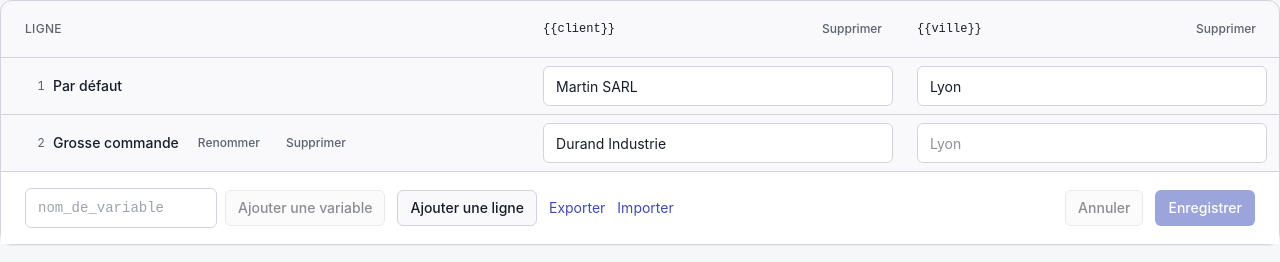
Test case: Données de test — le tableau › falsifiable : « Enregistrer » n’envoie que les cases modifiées, jeu par jeu
Type " Lille " into the field with placeholder "Lyon" at (1092,143), box [917,123,1267,163]
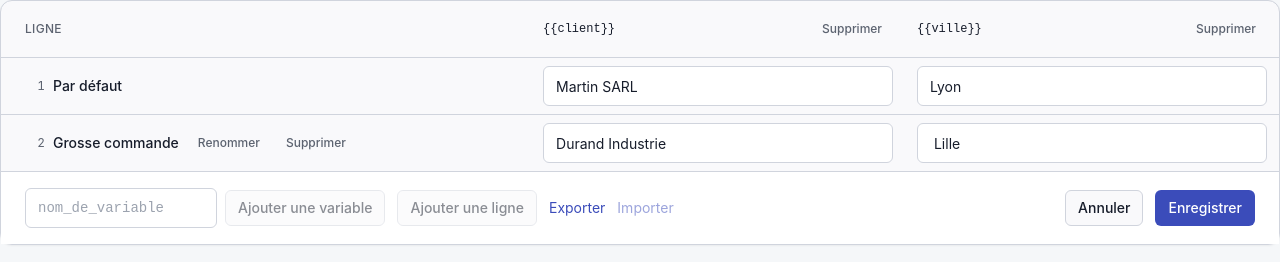
Clear the field named "client pour Grosse commande" at (718,143), box [543,123,893,163]
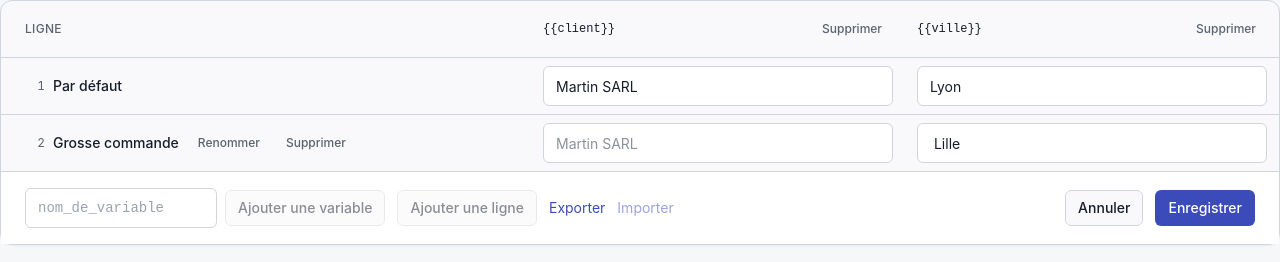
Click the button with test id "donnees-enregistrer" at (1205,208), box [1156,190,1255,226]
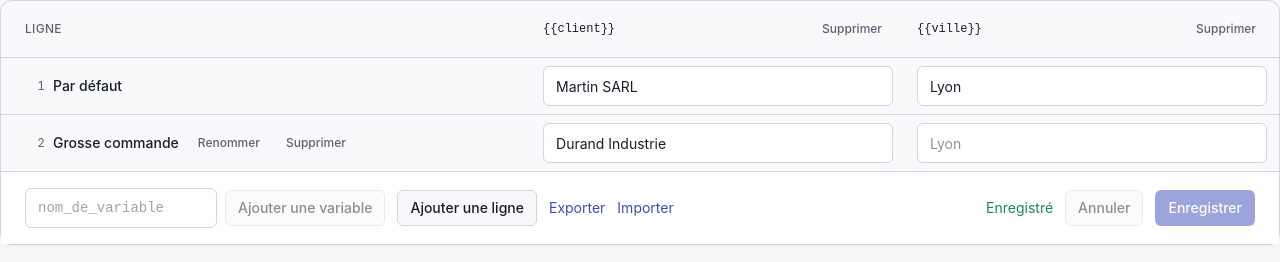
expect the message with test id "enregistre" reads "Enregistré": met, box [986,199,1053,216]
